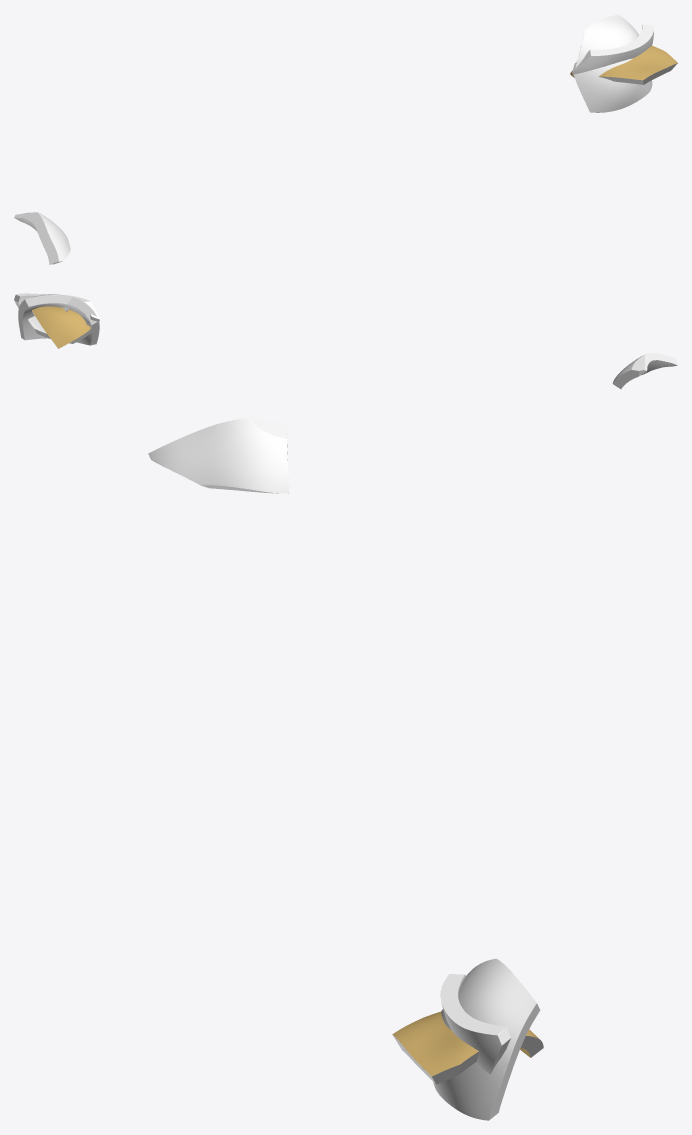
The model's file is fragments.glb.
The picture shows the model from 3 angles, top to bottom: view 1: azimuth 30°, elevation 25°; view 2: azimuth 150°, elevation 25°; view 3: azimuth 270°, elevation 25°; orthographic projection. The views are drawn at different scales.
Visible parts, largest first — view 1: frag_L02, frag_L03, frag_L01, frag_L06; view 2: frag_L02, frag_L03, frag_L06, frag_L01; view 3: frag_L06, frag_L02, frag_L03, frag_L01.
Part boxes in pixels (x1=…): frag_L02: x1=574, y1=14, x2=652, y2=112; frag_L03: x1=570, y1=45, x2=677, y2=84; frag_L01: x1=572, y1=24, x2=653, y2=77; frag_L06: x1=14, y1=212, x2=70, y2=264; frag_L02: x1=18, y1=294, x2=99, y2=345; frag_L03: x1=32, y1=306, x2=90, y2=348; frag_L06: x1=612, y1=353, x2=677, y2=389; frag_L01: x1=14, y1=293, x2=99, y2=343; frag_L06: x1=148, y1=418, x2=289, y2=493; frag_L02: x1=433, y1=958, x2=540, y2=1120; frag_L03: x1=392, y1=1011, x2=543, y2=1084; frag_L01: x1=440, y1=974, x2=510, y2=1074.
Bounding box in the file's own units: 6.62 × 0.8505 × 1.95.
